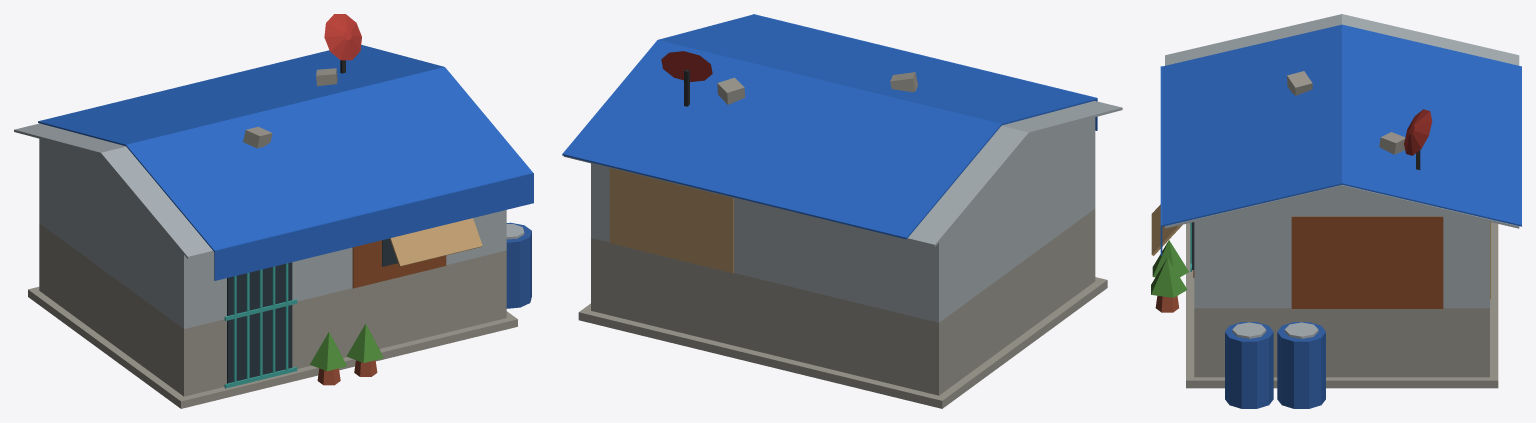
Rendered from BAY_I_TarpShack_F.glb.
3 renders of one model, left to right at view 1: azimuth 30°, elevation 25°; view 2: azimuth 150°, elevation 25°; view 3: azimuth 270°, elevation 25°, orthographic. The views are drawn at different scales.
Visible parts, largest first — view 1: BAY_I_TarpShack_F; view 2: BAY_I_TarpShack_F; view 3: BAY_I_TarpShack_F.
Boxes of the visible parts, x1,y1,x2,y2 form: BAY_I_TarpShack_F: [14, 14, 533, 408]; BAY_I_TarpShack_F: [562, 14, 1122, 408]; BAY_I_TarpShack_F: [1151, 14, 1521, 408].
Size of the model in its own units: 5.33 by 3.21 by 4.39.
1 material, 1 textured.
